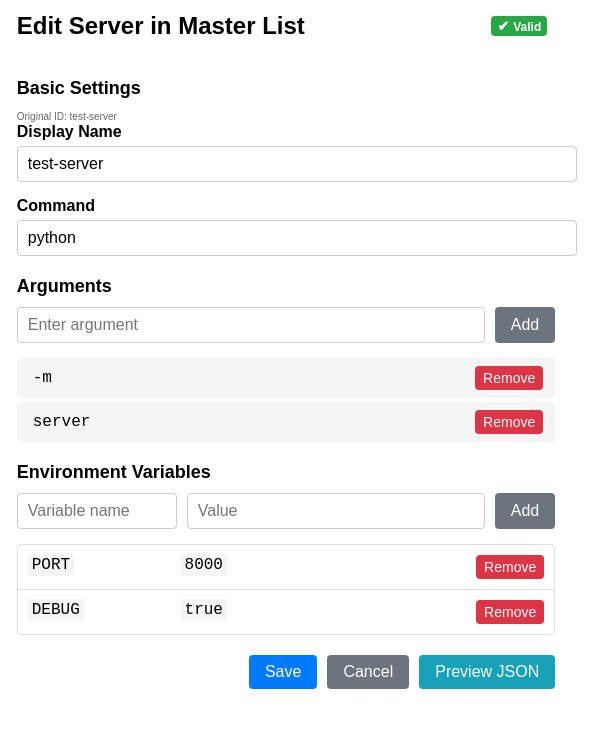
MasterServerForm › handles adding environment variables
This screenshot has width=594, height=751.
Expected: the 2nd button "Add" is shown, [495,493,555,529]
Type "NEW_VAR" into the field with placeholder "Variable name" at [97, 511], box [17,493,177,529]
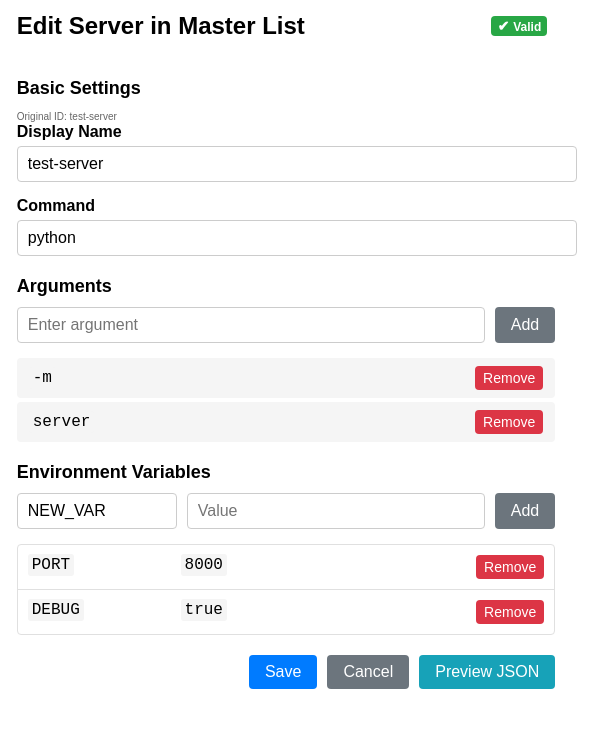
Type "new-value" into the field with placeholder "Value" at [336, 511], box [187,493,485,529]
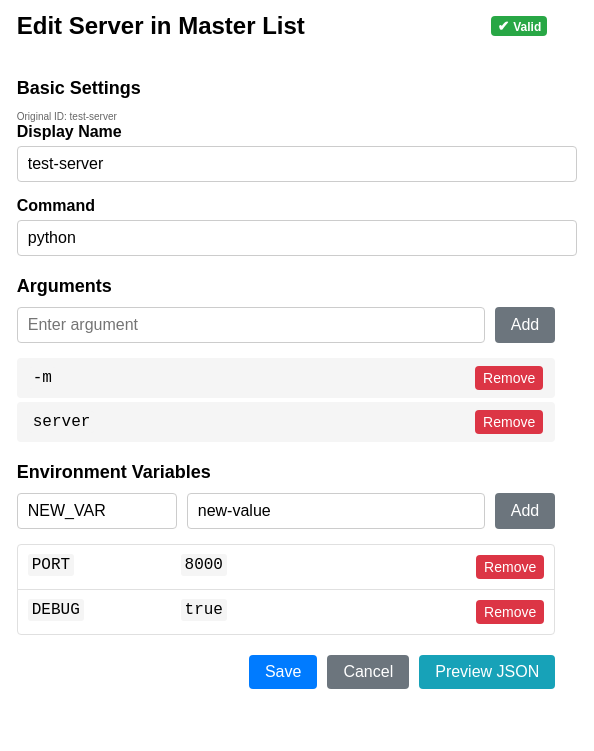
Click the 2nd button "Add" at [525, 511], box [495,493,555,529]
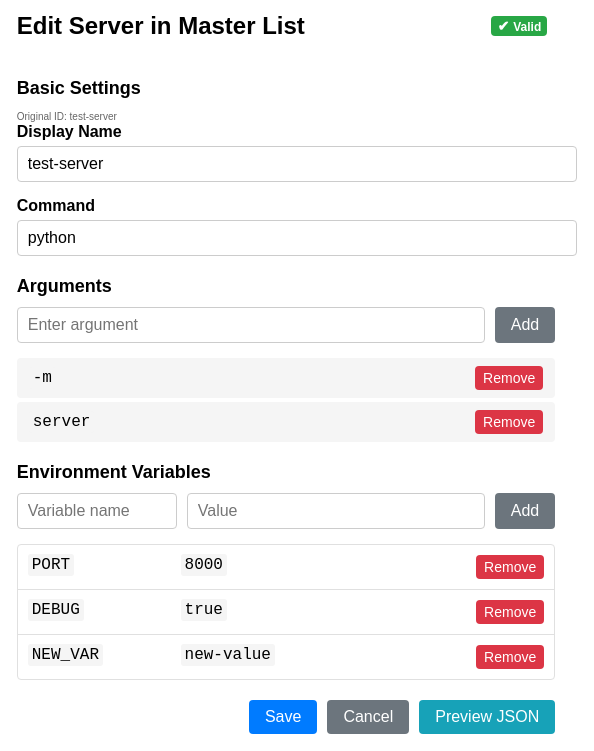
Expected: the text "NEW_VAR" is shown, [28,644,103,666]
Expected: the text "new-value" is shown, [180,644,275,666]
Expected: the field with placeholder "Variable name" is empty, [17,493,177,529]
